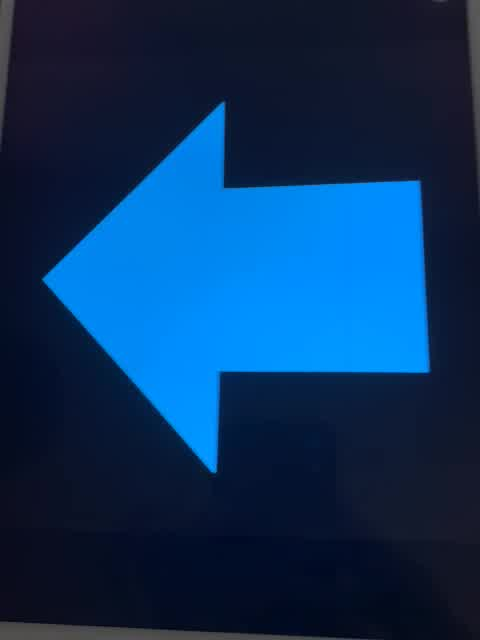left: (35, 93, 438, 476)
